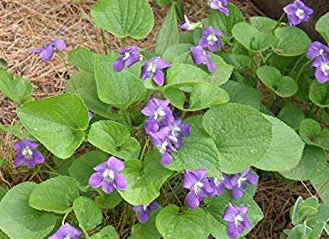violet: (140, 91, 191, 160), (87, 157, 130, 198), (180, 167, 217, 208), (10, 140, 49, 174), (221, 201, 253, 239), (34, 37, 67, 72), (137, 52, 171, 85), (307, 38, 329, 88), (109, 46, 141, 78), (190, 44, 212, 78)
